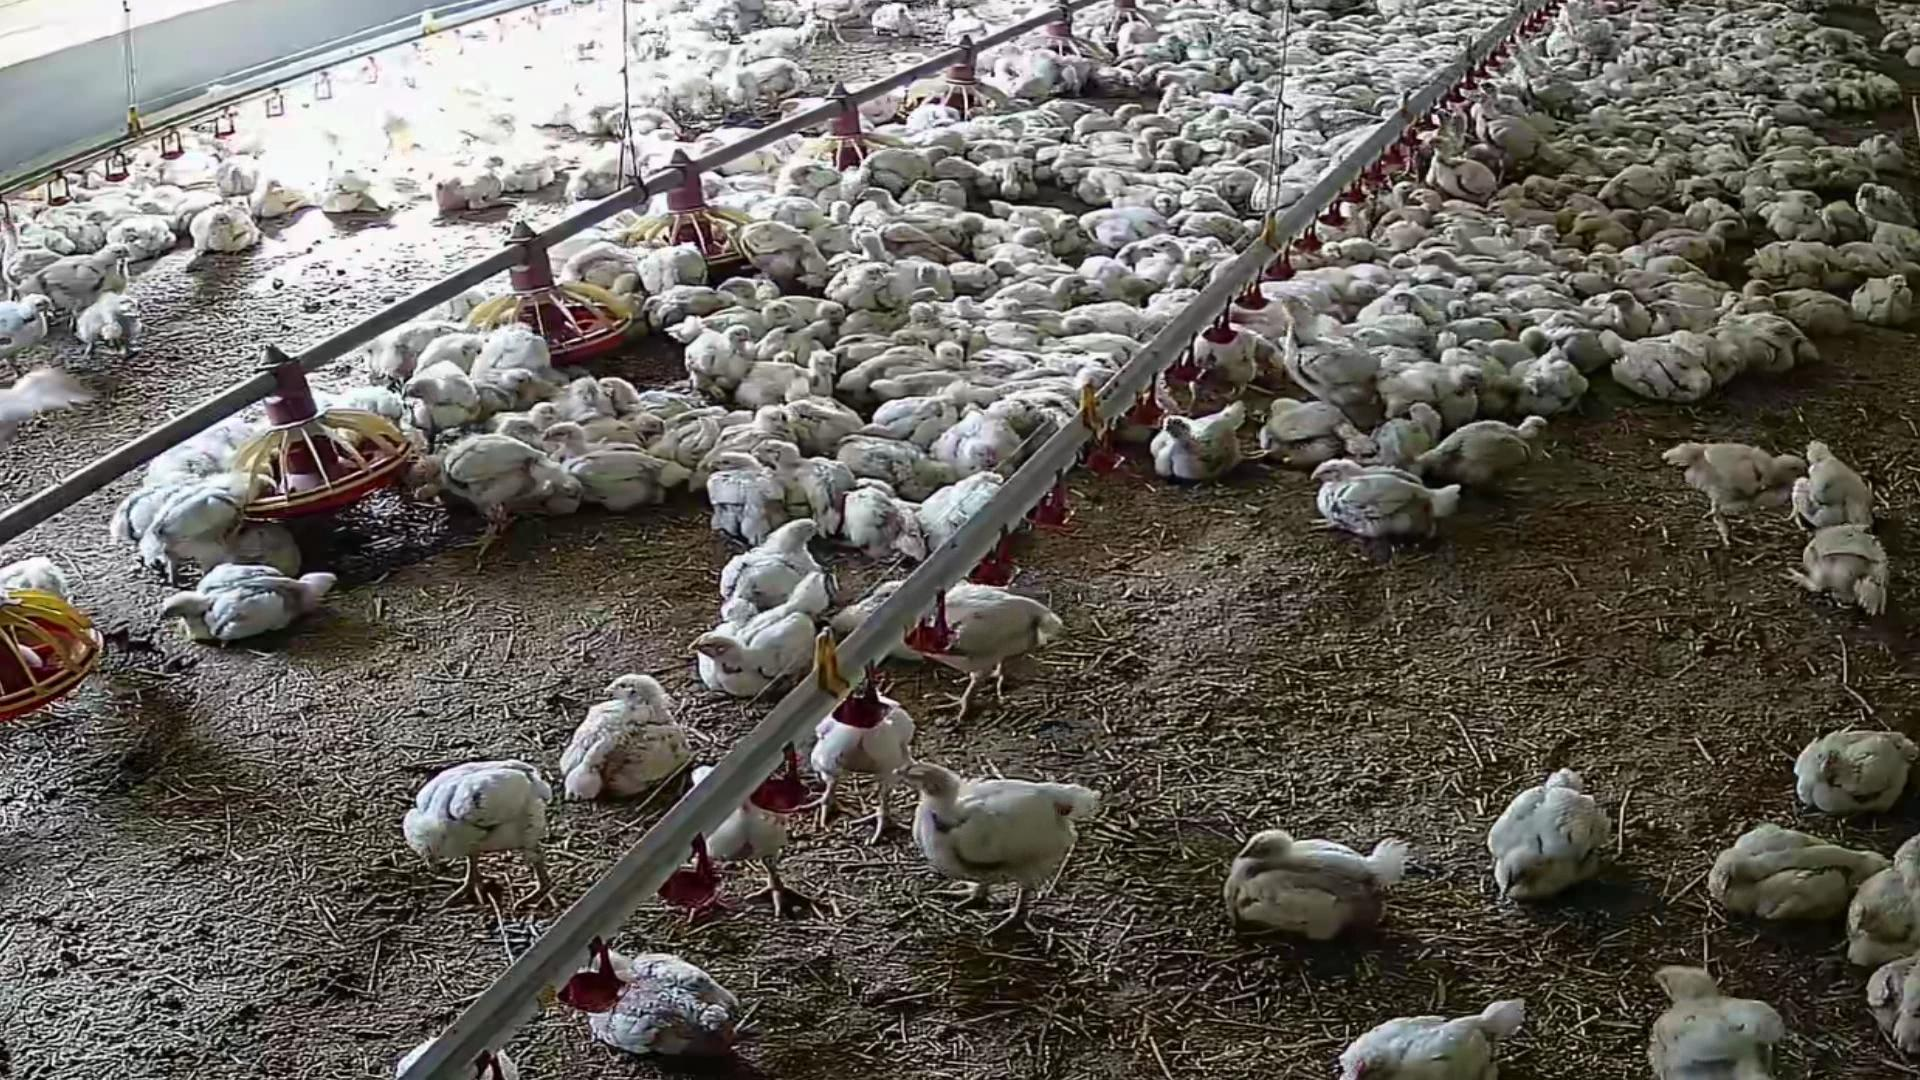poussin: (902, 761, 1097, 928), (393, 764, 566, 915), (1222, 827, 1406, 945), (571, 931, 733, 1056), (560, 666, 704, 804), (691, 773, 815, 916), (897, 584, 1027, 720), (1647, 967, 1797, 1080), (1712, 822, 1883, 919), (157, 563, 344, 649), (695, 574, 828, 691), (142, 469, 278, 584), (1659, 440, 1807, 546), (818, 686, 907, 853), (1308, 448, 1461, 545), (1499, 767, 1611, 898), (1338, 1005, 1519, 1080), (425, 440, 547, 543), (1837, 828, 1920, 978), (534, 421, 687, 501), (1796, 725, 1919, 820), (21, 241, 132, 335), (1797, 514, 1887, 628), (1278, 297, 1371, 404), (712, 513, 832, 595), (758, 434, 856, 530), (709, 444, 794, 555), (1597, 324, 1709, 406), (1796, 435, 1883, 538), (911, 473, 1021, 554), (1424, 419, 1557, 480), (1188, 318, 1275, 407), (115, 465, 214, 541), (717, 220, 819, 293), (1153, 407, 1251, 480), (738, 347, 852, 409), (864, 185, 972, 248), (1263, 397, 1366, 463), (829, 426, 932, 488), (855, 469, 916, 571), (0, 367, 95, 430), (1455, 92, 1545, 157), (158, 419, 261, 476), (725, 276, 841, 326), (1660, 320, 1743, 390), (593, 375, 703, 427), (1374, 406, 1447, 484), (1456, 340, 1515, 430), (960, 407, 1036, 476), (1712, 313, 1811, 364), (849, 343, 960, 388), (1075, 206, 1168, 258), (1377, 349, 1474, 400), (688, 315, 753, 390), (1600, 152, 1689, 206), (786, 397, 876, 451), (870, 215, 948, 276), (1520, 343, 1585, 415), (735, 47, 808, 111), (1411, 141, 1494, 196), (0, 291, 65, 361), (1878, 948, 1920, 1055), (1002, 194, 1076, 255), (698, 123, 795, 167), (1636, 218, 1743, 258), (1286, 265, 1389, 307), (70, 297, 149, 351), (1742, 236, 1840, 280), (717, 22, 818, 65), (476, 327, 543, 389), (419, 364, 488, 425), (433, 160, 505, 215), (559, 148, 626, 207), (1768, 286, 1854, 332), (574, 240, 650, 291), (833, 252, 897, 314), (644, 239, 717, 291), (836, 74, 911, 125), (186, 203, 266, 251), (977, 274, 1088, 309), (975, 343, 1118, 369), (103, 212, 178, 262), (1513, 34, 1577, 92), (723, 190, 816, 229), (1502, 45, 1572, 98), (1072, 249, 1159, 291), (865, 149, 953, 190), (872, 367, 1007, 393), (405, 330, 484, 375), (330, 161, 386, 223), (769, 303, 843, 349), (1250, 160, 1316, 211), (488, 145, 563, 190), (721, 406, 793, 452), (1059, 95, 1142, 135), (1530, 311, 1590, 365), (1228, 287, 1288, 342), (545, 229, 615, 276), (814, 202, 868, 261), (703, 297, 793, 332), (455, 371, 538, 409), (1473, 75, 1545, 119), (1854, 181, 1919, 229), (1439, 109, 1495, 165), (255, 167, 316, 218), (1654, 298, 1721, 344), (1176, 214, 1259, 251), (301, 394, 406, 423), (1246, 272, 1338, 305), (1536, 18, 1597, 69), (1688, 190, 1749, 240), (1853, 273, 1916, 319), (978, 233, 1052, 273), (984, 145, 1036, 200), (579, 418, 688, 444), (993, 314, 1114, 338), (1834, 239, 1908, 277), (771, 94, 843, 133), (858, 401, 947, 433), (769, 166, 841, 204), (1391, 278, 1486, 307), (1614, 289, 1665, 342), (1174, 185, 1242, 224), (1870, 211, 1919, 266), (891, 260, 953, 303), (1555, 4, 1618, 46), (1439, 228, 1523, 260), (976, 80, 1043, 120), (1203, 157, 1255, 207), (1415, 247, 1510, 274), (654, 286, 740, 316), (715, 273, 777, 314), (1092, 142, 1162, 178), (1749, 189, 1821, 223), (1116, 21, 1176, 62), (843, 328, 927, 357), (1101, 112, 1170, 148), (1457, 336, 1536, 367), (1390, 287, 1445, 330), (555, 204, 642, 231), (1432, 315, 1514, 343), (1589, 129, 1675, 156), (1567, 212, 1633, 247), (1052, 334, 1153, 356), (977, 319, 1054, 348), (1160, 248, 1218, 286), (433, 291, 508, 320), (1091, 281, 1164, 310), (1855, 133, 1902, 179), (1531, 236, 1601, 266), (1153, 62, 1225, 91), (211, 154, 272, 189), (1112, 187, 1185, 215), (1081, 161, 1120, 214), (996, 116, 1068, 144), (1095, 131, 1163, 160), (539, 375, 599, 407), (1821, 199, 1863, 245), (1582, 255, 1648, 284), (945, 448, 1011, 477), (135, 185, 191, 218), (1615, 268, 1693, 291), (1159, 120, 1200, 165), (1329, 129, 1386, 161), (1552, 174, 1597, 214), (1491, 272, 1571, 294), (1739, 161, 1774, 212), (823, 0, 857, 51), (1751, 127, 1825, 150), (893, 129, 976, 150), (989, 49, 1051, 76), (1403, 193, 1480, 215), (1007, 372, 1122, 386), (1356, 327, 1425, 351), (1228, 44, 1274, 79), (82, 212, 144, 239), (1369, 222, 1441, 244), (1382, 178, 1415, 227), (1047, 50, 1083, 95), (899, 100, 953, 129), (1290, 138, 1335, 173), (977, 381, 1092, 394), (1213, 113, 1273, 138), (910, 305, 952, 339), (945, 257, 989, 290), (1809, 28, 1866, 53), (1834, 75, 1871, 113), (1084, 65, 1138, 90), (1867, 69, 1896, 115), (928, 156, 978, 182), (1514, 224, 1563, 251), (1201, 91, 1262, 112), (1772, 98, 1822, 123), (491, 411, 570, 427), (1226, 83, 1288, 103), (1159, 236, 1183, 287), (1745, 145, 1815, 162), (953, 301, 1006, 323), (1448, 277, 1489, 305), (1730, 280, 1764, 313), (1655, 67, 1702, 91), (1523, 171, 1584, 190), (1323, 236, 1383, 255), (1640, 204, 1677, 233), (1807, 141, 1869, 156), (1724, 119, 1776, 135), (1179, 105, 1234, 120), (1714, 104, 1774, 117), (1626, 105, 1679, 120), (1167, 11, 1221, 24), (1385, 255, 1422, 273), (1286, 55, 1332, 70), (1598, 211, 1642, 225)
